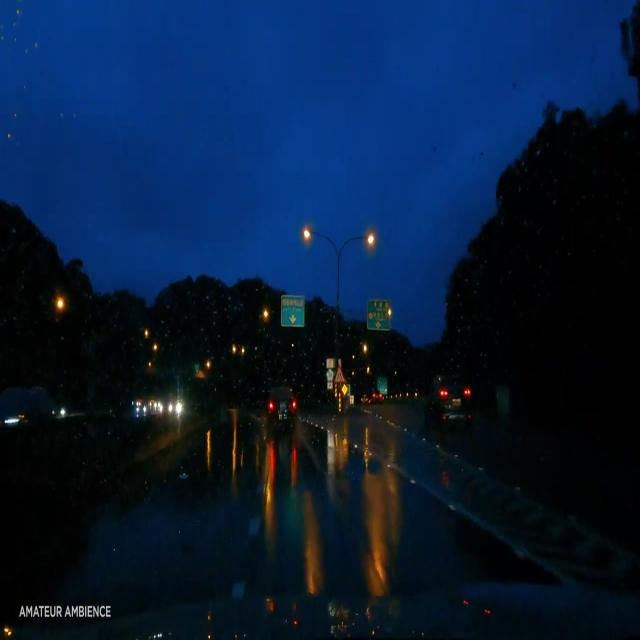Car: (421, 373, 469, 426), (2, 387, 63, 417), (262, 386, 297, 431)
